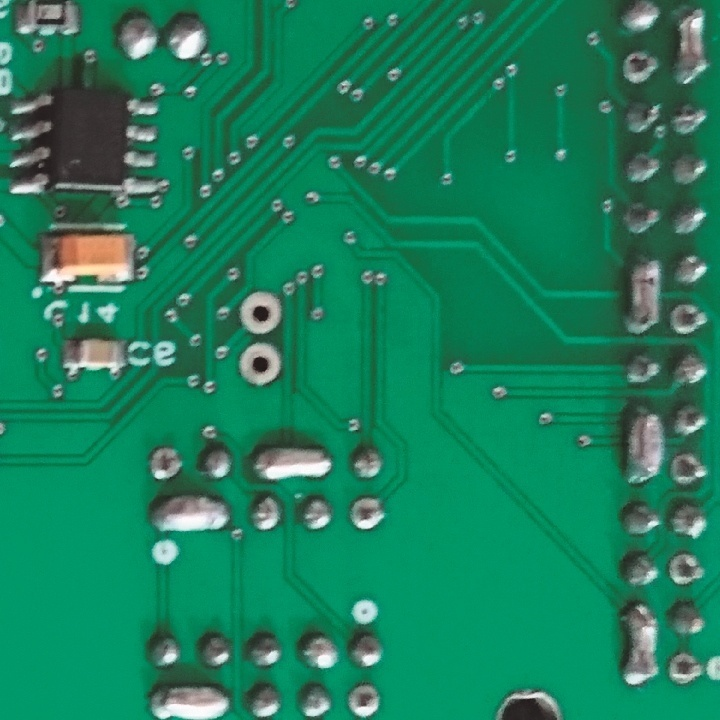F: (237, 288, 282, 334), (239, 342, 282, 389), (667, 549, 707, 593), (347, 494, 389, 534), (665, 650, 706, 690), (621, 46, 659, 88), (347, 682, 387, 720), (670, 300, 709, 337), (147, 445, 186, 482), (670, 451, 707, 486)
P: (250, 440, 330, 485), (150, 492, 229, 537), (670, 1, 711, 87), (627, 403, 665, 493), (622, 600, 659, 689), (147, 682, 231, 720), (627, 252, 662, 336)
